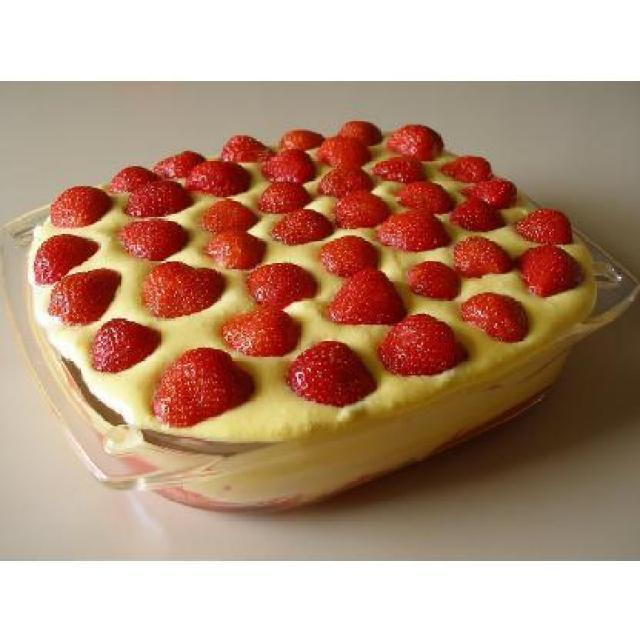Strawberry: (150, 345, 258, 430), (282, 336, 380, 406), (376, 310, 470, 376), (322, 266, 408, 326), (142, 259, 228, 316), (46, 266, 123, 326), (85, 316, 161, 373), (511, 244, 587, 298), (219, 308, 301, 357), (459, 290, 532, 344), (30, 230, 99, 287), (244, 260, 316, 312), (376, 212, 452, 254), (46, 182, 114, 228), (117, 219, 191, 261), (452, 234, 514, 280), (186, 157, 254, 197), (316, 233, 379, 275), (382, 120, 446, 160), (201, 230, 267, 268), (330, 188, 390, 228), (268, 210, 332, 246), (196, 197, 258, 234), (124, 182, 193, 215), (390, 180, 456, 214), (406, 260, 462, 300), (458, 176, 520, 212), (510, 208, 573, 241), (314, 163, 378, 194), (252, 182, 312, 215), (451, 198, 506, 233), (152, 146, 208, 180), (260, 150, 318, 182), (315, 136, 374, 166), (109, 162, 162, 195), (219, 132, 273, 163), (437, 155, 495, 183), (371, 155, 426, 183), (336, 120, 381, 146), (276, 128, 324, 148)
